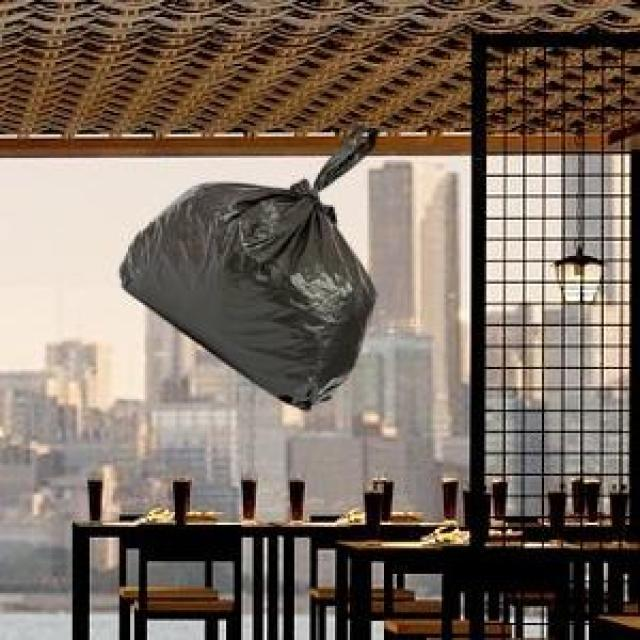miscellaneous trash: (115, 122, 376, 405)
